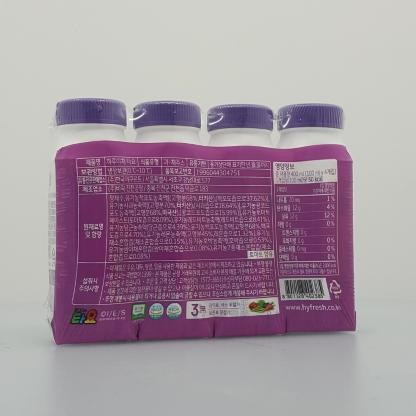-------------400ML: (44, 97, 357, 346)
